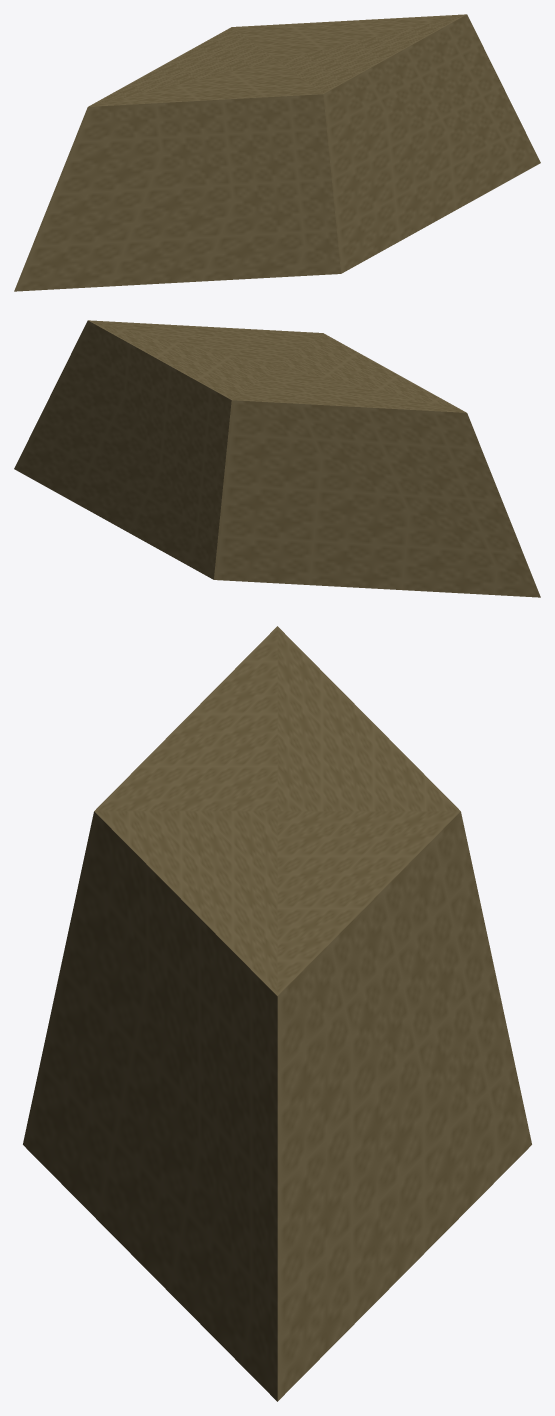
Rendered from military-EARTH_WALL-1-lod0.glb.
3 views of the same model, one above another, from view 1: azimuth 30°, elevation 25°; view 2: azimuth 150°, elevation 25°; view 3: azimuth 270°, elevation 25° (orthographic). The views are drawn at different scales.
Bounding box in the file's own units: 0.86 × 0.26 × 0.36.
Materials: 1 (1 with a texture image).
